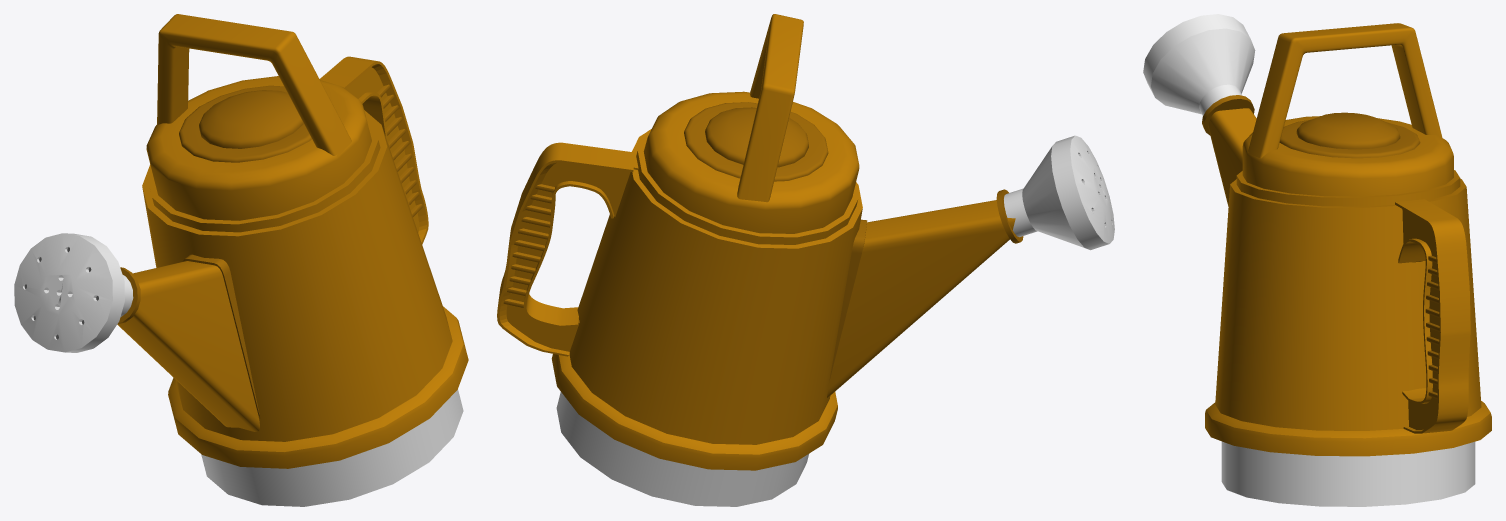
File: wateringcan.glb
The picture shows the model from 3 angles, left to right: view 1: azimuth 30°, elevation 25°; view 2: azimuth 150°, elevation 25°; view 3: azimuth 270°, elevation 25°; orthographic projection. The views are drawn at different scales.
Parts seen in each view (by area): view 1: Can, Box001, Showar, Hanger, Door, Handle; view 2: Can, Box001, Handle, Showar, Hanger, Door; view 3: Can, Handle, Showar, Hanger, Door, Box001.
Boxes of the visible parts, left/top/right/bottom form: Can: left=142, top=76, right=468, bottom=506; Box001: left=117, top=254, right=259, bottom=431; Showar: left=14, top=233, right=140, bottom=352; Hanger: left=157, top=14, right=351, bottom=156; Door: left=179, top=85, right=311, bottom=162; Handle: left=319, top=56, right=428, bottom=244; Can: left=551, top=91, right=862, bottom=506; Box001: left=827, top=200, right=1015, bottom=397; Handle: left=497, top=142, right=638, bottom=356; Showar: left=996, top=135, right=1114, bottom=250; Hanger: left=737, top=14, right=803, bottom=202; Door: left=684, top=102, right=828, bottom=181; Can: left=1205, top=116, right=1491, bottom=506; Handle: left=1395, top=199, right=1470, bottom=433; Showar: left=1143, top=14, right=1255, bottom=135; Hanger: left=1248, top=23, right=1442, bottom=158; Door: left=1279, top=112, right=1420, bottom=158; Box001: left=1208, top=108, right=1256, bottom=206.
Size of the model in its own units: 1.59 by 1.36 by 0.9749.
